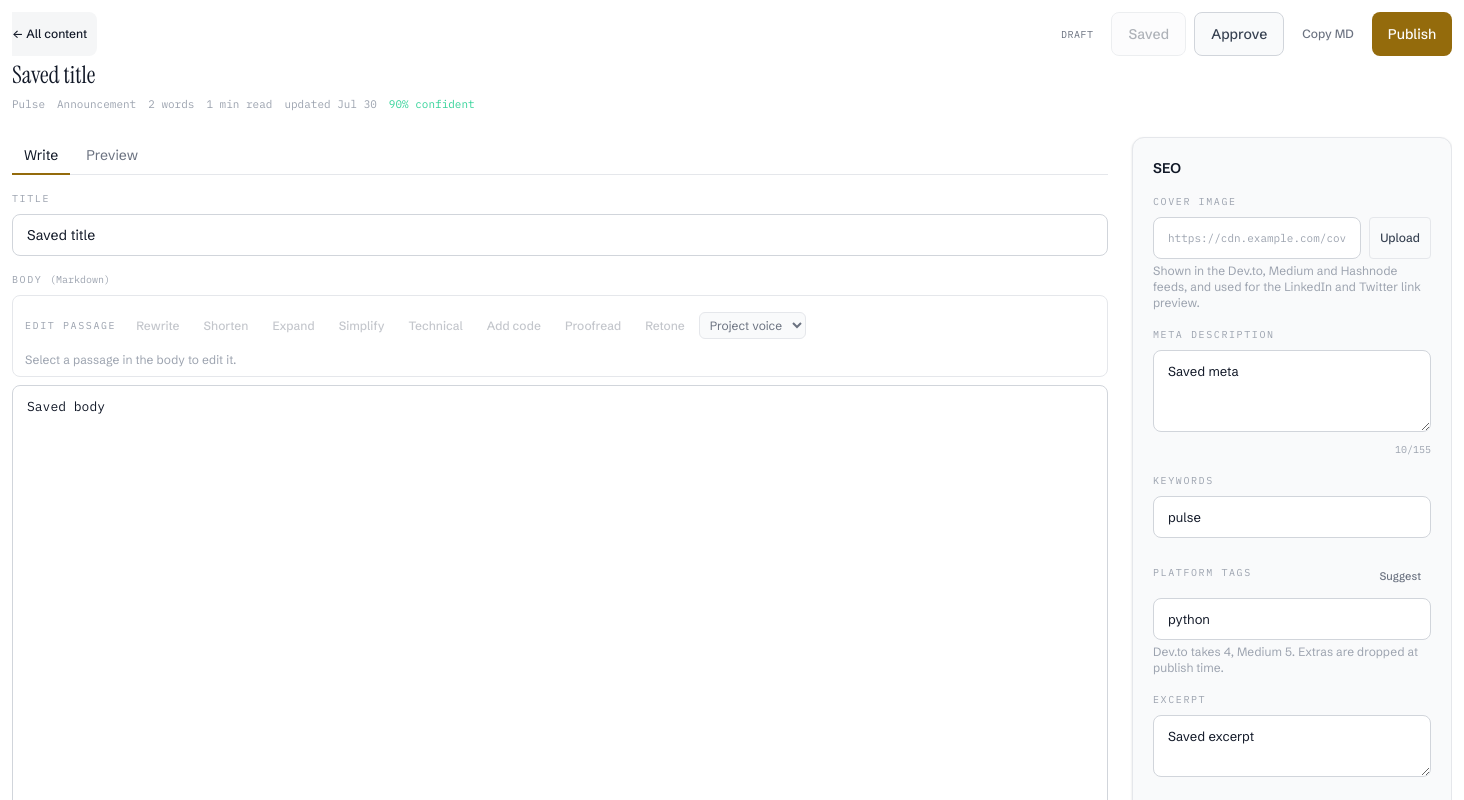
Test case: auto-save › says when the text last reached the server
Replace the text in the field labelled "Title" with "Saved title!": (560, 234) left=12, top=214, right=1108, bottom=256
Wait 2000 ms
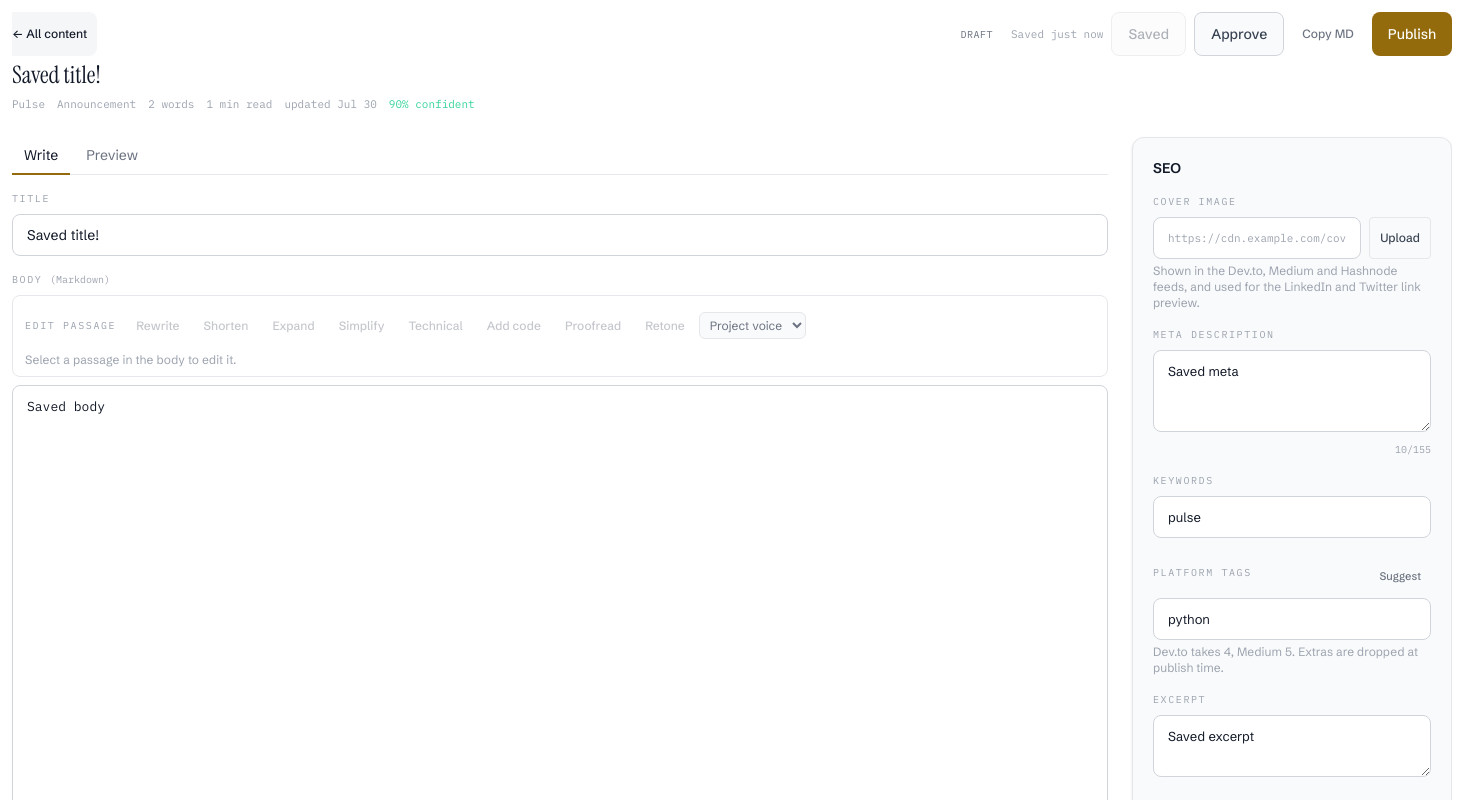
Now the text "Saved just now" is shown, box left=1011, top=26, right=1103, bottom=42
